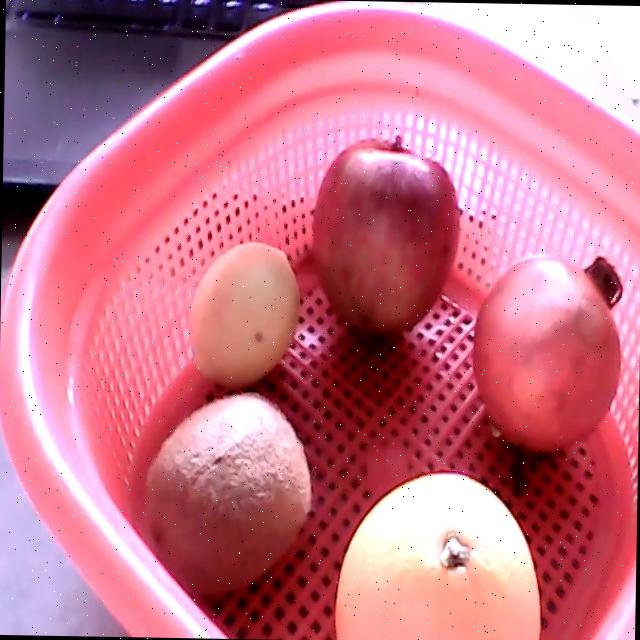apple: (312, 135, 459, 332)
kiwi: (144, 392, 312, 595)
lemon: (188, 240, 299, 385)
orange: (334, 471, 540, 640)
pomegranate: (473, 255, 622, 455)
